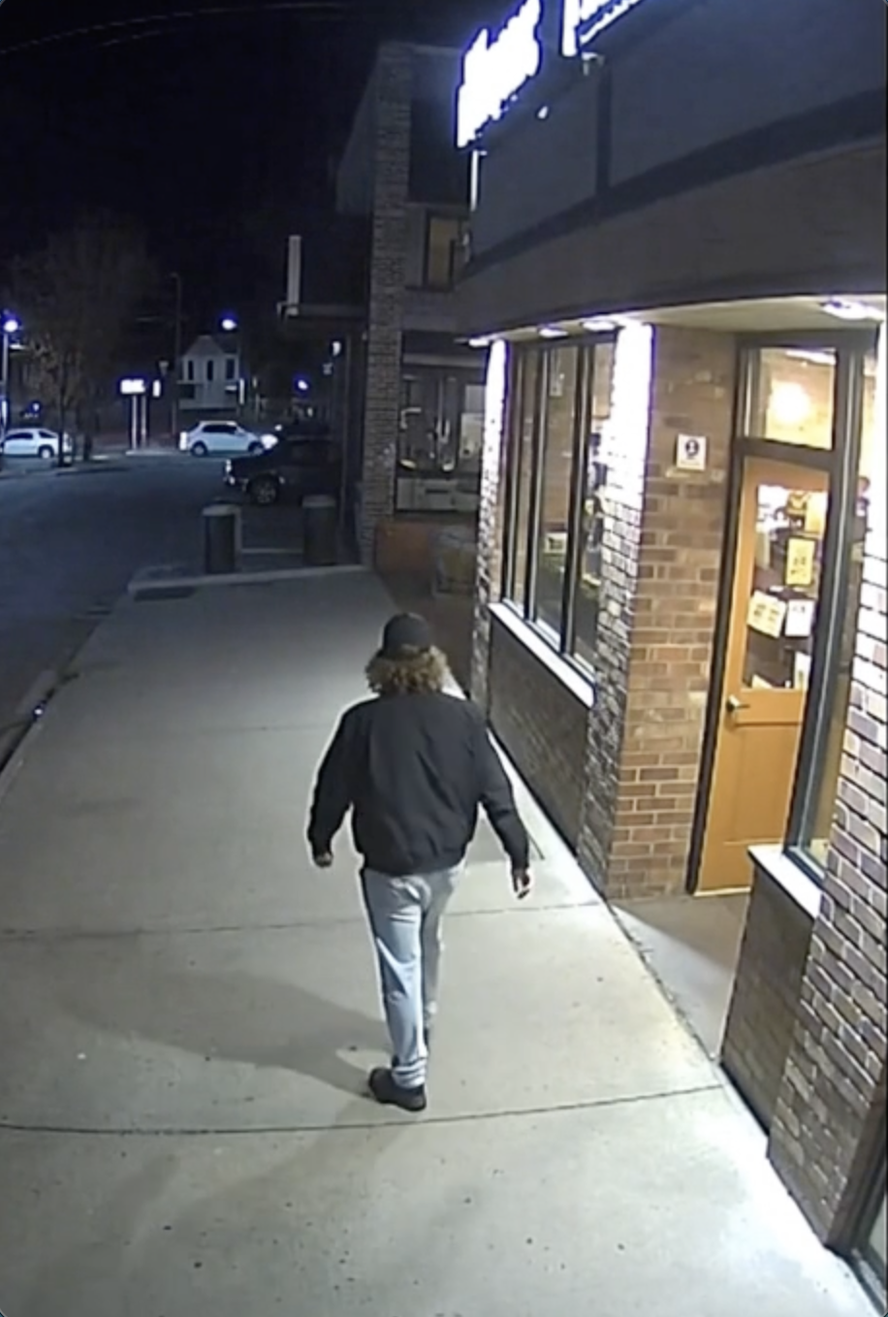Heavy Gun: (303, 610, 535, 1110)
